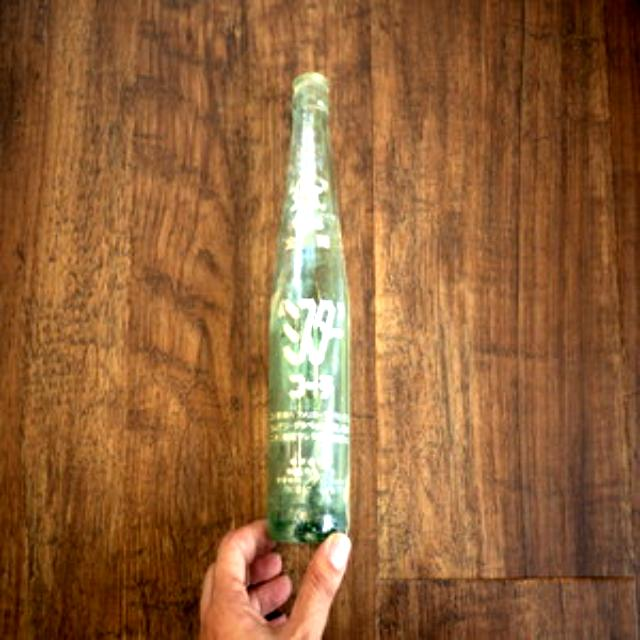Glass: (270, 76, 356, 536)
